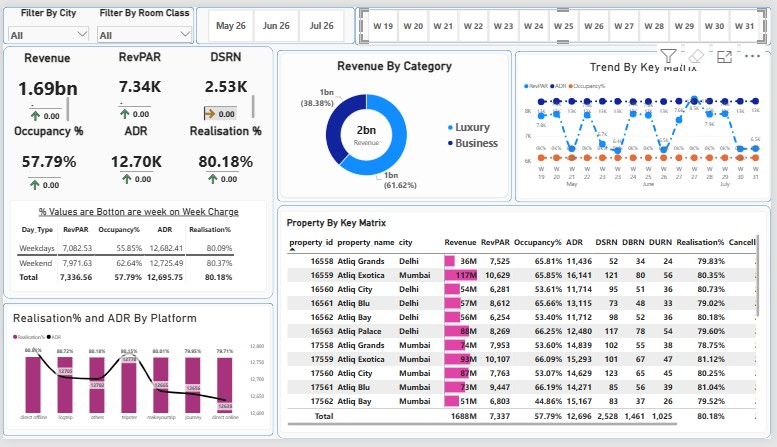

The page's visual inventory and layout, read from the dashboard file:
{"tool":"powerbi","page":{"name":"Page 1","canvas":[1920,1080],"ordinal":0},"visuals":[{"type":"shape","box":[0,0,478,93],"z":0},{"type":"shape","box":[0,739,676,332],"z":1000},{"type":"shape","box":[1279,109,641,378],"z":2000},{"type":"shape","box":[685,496,1235,584],"z":3000},{"type":"shape","box":[0,98,676,632],"z":4000},{"type":"shape","box":[685,108,587,379],"z":5000},{"type":"shape","box":[879,0,1041,96],"z":6000},{"type":"shape","box":[482,0,397,93],"z":7000},{"type":"tableEx","title":"Property By Key Matrix","fields":{"Values":["dim_hotels.property_id","dim_hotels.property_name","dim_hotels.city","Key_Measures.Revenue","Key_Measures.RevPAR","Key_Measures.Occupancy%","Key_Measures.ADR","Key_Measures.DSRN","Key_Measures.DBRN","Key_Measures.DURN","Key_Measures.Realisation%","Key_Measures.Cancellation%"]},"box":[692.5,508.8,1216.2,553.8],"z":8000},{"type":"slicer","title":"Filter By City","fields":{"Values":["dim_hotels.city"]},"box":[7,0,213,84],"z":9000},{"type":"slicer","title":"Filter By Room Class","fields":{"Values":["dim_rooms.room_class"]},"box":[230,0,248,90],"z":10000},{"type":"slicer","fields":{"Values":["dim_date.mmm yy"]},"box":[491.2,5,378.8,83.8],"z":11000},{"type":"slicer","fields":{"Values":["dim_date.week no"]},"box":[891.4,5.2,1017.2,83.6],"z":12000},{"type":"cardVisual","title":"Revenue","fields":{"Data":["Key_Measures.Revenue"]},"box":[10,109,202,130],"z":13000},{"type":"cardVisual","title":"Occupancy %","fields":{"Data":["Key_Measures.Occupancy%"]},"box":[0,292,230,130],"z":14000},{"type":"tableEx","title":".","fields":{"Values":["Key_Measures.Revenue WoW change %"]},"box":[47,211,135,95],"z":15000},{"type":"cardVisual","title":"RevPAR","fields":{"Data":["Key_Measures.RevPAR"]},"box":[234,108,214,130],"z":16000},{"type":"cardVisual","title":"DSRN","fields":{"Data":["Key_Measures.DSRN"]},"box":[454,108,205,130],"z":17000},{"type":"cardVisual","title":"ADR","fields":{"Data":["Key_Measures.ADR"]},"box":[218,292,230,130],"z":18000},{"type":"cardVisual","title":"Realisation %","fields":{"Data":["Key_Measures.Realisation%"]},"box":[445,292,224,130],"z":19000},{"type":"tableEx","title":".","fields":{"Values":["Key_Measures.DSRN WoW change %"]},"box":[486,206,161,94],"z":20000},{"type":"tableEx","title":".","fields":{"Values":["Key_Measures.Revpar WoW change %"]},"box":[271,206,127,100],"z":21000},{"type":"tableEx","title":".","fields":{"Values":["Key_Measures.Occupancy WoW change %"]},"box":[46,382,129,100],"z":22000},{"type":"tableEx","title":".","fields":{"Values":["Key_Measures.ADR WoW Change %"]},"box":[274,368,124,100],"z":23000},{"type":"tableEx","title":".","fields":{"Values":["Key_Measures.Realisation WoW change %"]},"box":[491,368,125,100],"z":24000},{"type":"donutChart","title":"Revenue By Category","fields":{"Category":["dim_hotels.category"],"Y":["Key_Measures.Revenue"]},"box":[693,114,571,361],"z":25000},{"type":"lineStackedColumnComboChart","title":"Realisation% and ADR By Platform","fields":{"Category":["fact_bookings.booking_platform"],"Y":["Key_Measures.Realisation%"],"Y2":["Key_Measures.ADR"]},"box":[7,746,662,312],"z":26000},{"type":"tableEx","title":"% Values are Botton are week on Week Charge","fields":{"Values":["dim_date.Day_Type","Key_Measures.RevPAR","Key_Measures.Occupancy%","Key_Measures.ADR","Key_Measures.Realisation%"]},"box":[17.3,481.7,641.5,229],"z":27000},{"type":"lineChart","title":"Trend By Key Matrix","fields":{"Category":["dim_date.mmm yy.Variation.Date Hierarchy.Month","dim_date.week no"],"Y":["Key_Measures.RevPAR"],"Y2":["Key_Measures.ADR","Key_Measures.Occupancy%"]},"box":[1285,117,630.7,360.7],"z":28000}]}

Visuals, with their boxes in screenshot pixels (x1, y1, x2, y2), scaled from the page's 1920x1080 canvas onto the 777x447 screenshot:
shape: BBox(0, 0, 193, 38)
shape: BBox(0, 306, 274, 443)
shape: BBox(518, 45, 776, 202)
shape: BBox(277, 205, 776, 446)
shape: BBox(0, 41, 274, 302)
shape: BBox(277, 45, 515, 202)
shape: BBox(356, 0, 776, 40)
shape: BBox(195, 0, 356, 38)
"Property By Key Matrix" tableEx: BBox(280, 211, 772, 440)
"Filter By City" slicer: BBox(3, 0, 89, 35)
"Filter By Room Class" slicer: BBox(93, 0, 193, 37)
slicer - dim_date.mmm yy: BBox(199, 2, 352, 37)
slicer - dim_date.week no: BBox(361, 2, 772, 37)
"Revenue" cardVisual: BBox(4, 45, 86, 99)
"Occupancy %" cardVisual: BBox(0, 121, 93, 175)
"." tableEx: BBox(19, 87, 74, 127)
"RevPAR" cardVisual: BBox(95, 45, 181, 99)
"DSRN" cardVisual: BBox(184, 45, 267, 99)
"ADR" cardVisual: BBox(88, 121, 181, 175)
"Realisation %" cardVisual: BBox(180, 121, 271, 175)
"." tableEx: BBox(197, 85, 262, 124)
"." tableEx: BBox(110, 85, 161, 127)
"." tableEx: BBox(19, 158, 71, 199)
"." tableEx: BBox(111, 152, 161, 194)
"." tableEx: BBox(199, 152, 249, 194)
"Revenue By Category" donutChart: BBox(280, 47, 512, 197)
"Realisation% and ADR By Platform" lineStackedColumnComboChart: BBox(3, 309, 271, 438)
"% Values are Botton are week on Week Charge" tableEx: BBox(7, 199, 267, 294)
"Trend By Key Matrix" lineChart: BBox(520, 48, 775, 198)
